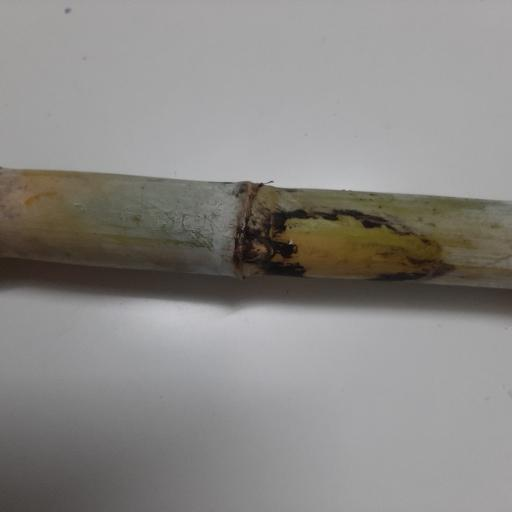Bud: (242, 235, 274, 263)
